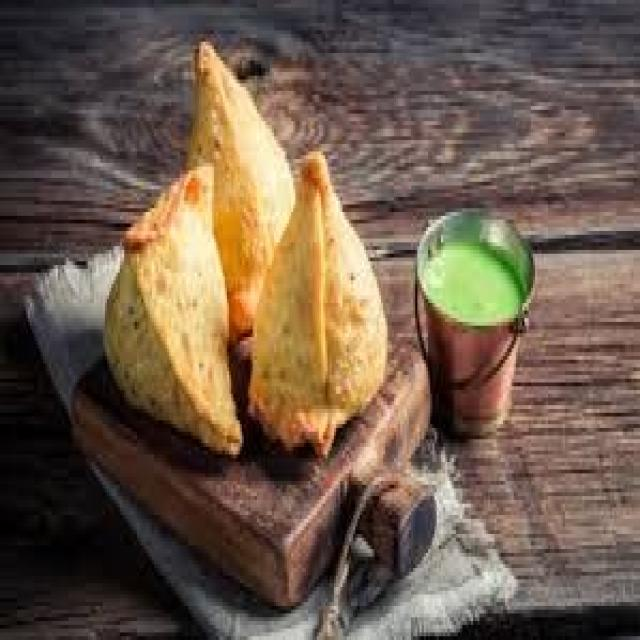SAMOSA: (248, 151, 385, 451), (103, 167, 238, 451), (186, 42, 293, 337)
